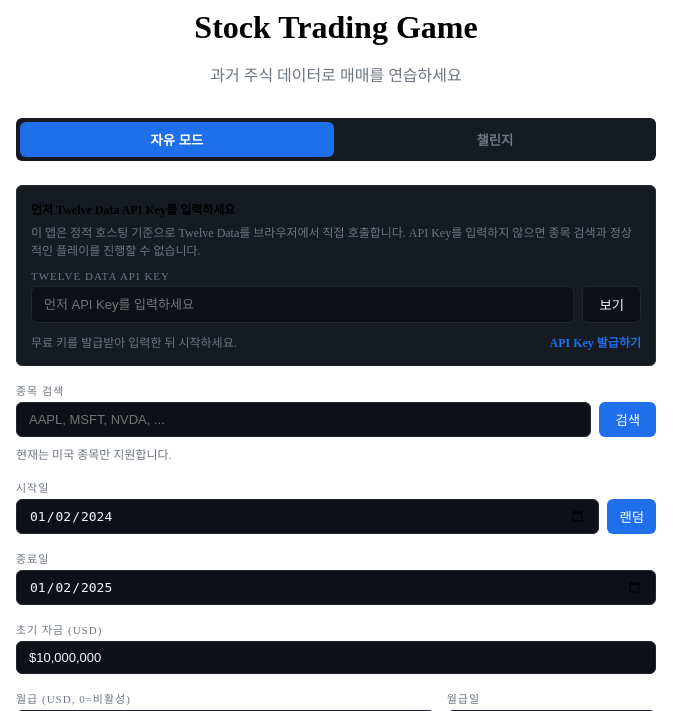
StartScreen US-only symbol support › resets end date to one year later when start date changes
Type "2025-02-10" into the date field below "시작일". click: (308,517)
box: x1=16 y1=499 x2=600 y2=534
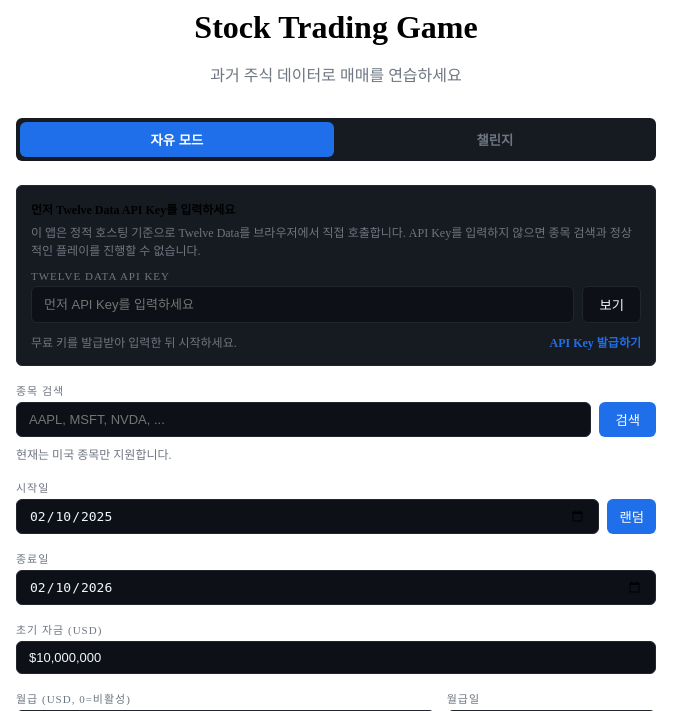
Expected: the date field below "종료일" holds "2026-02-10", x1=16 y1=570 x2=656 y2=605
